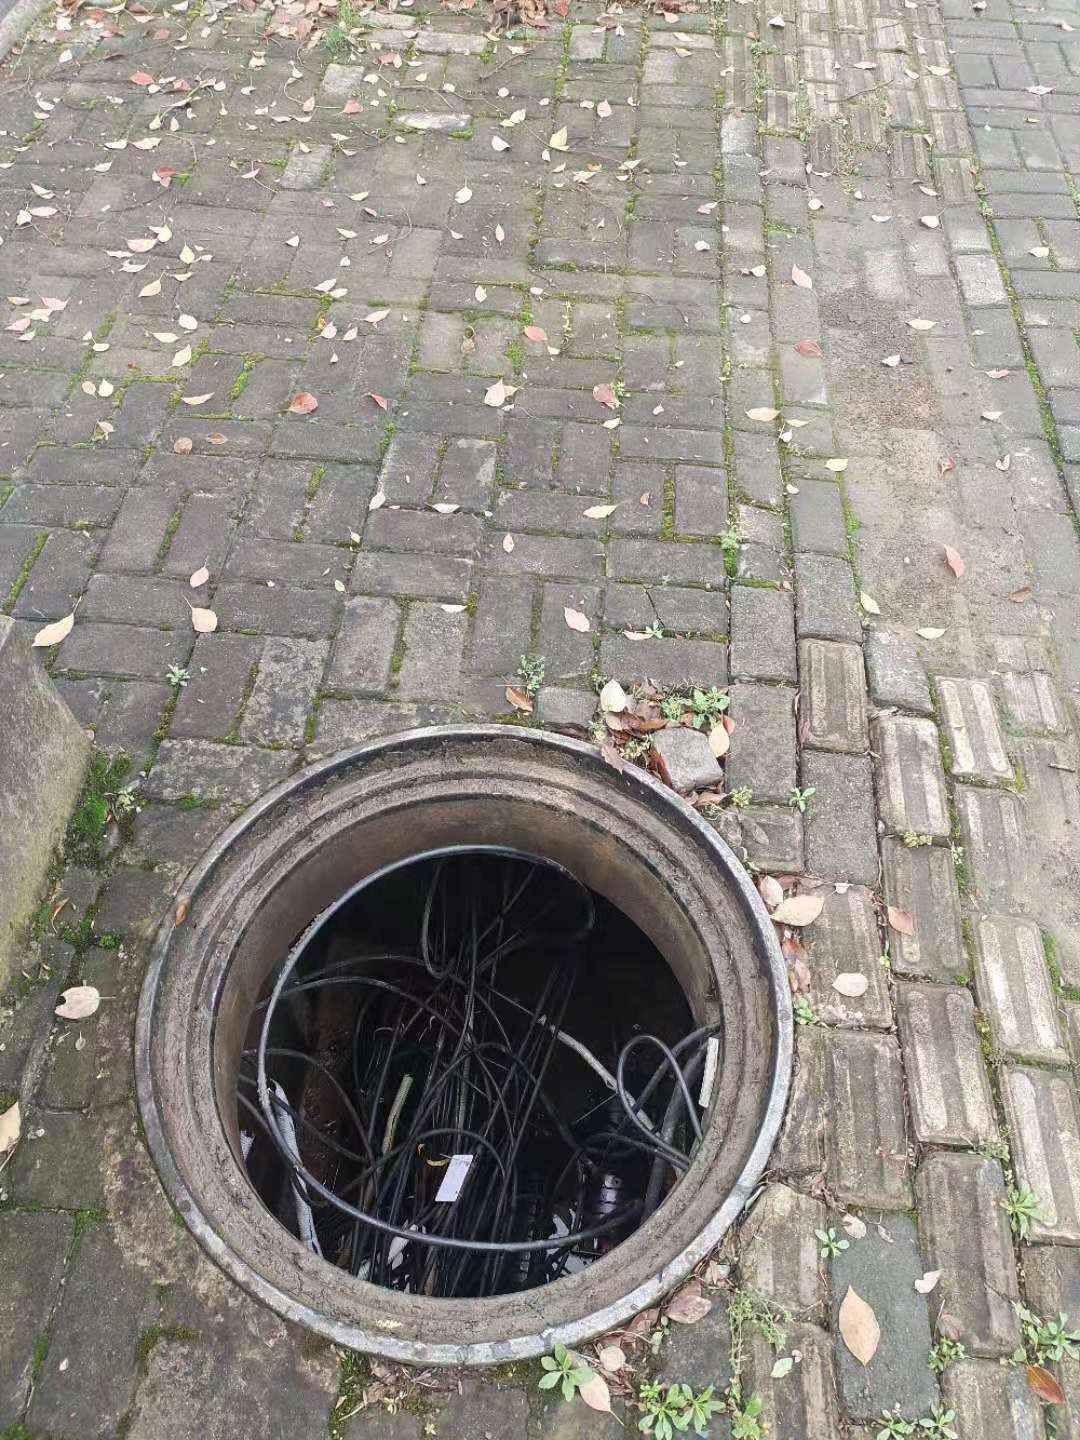lose: (135, 723, 792, 1373)
